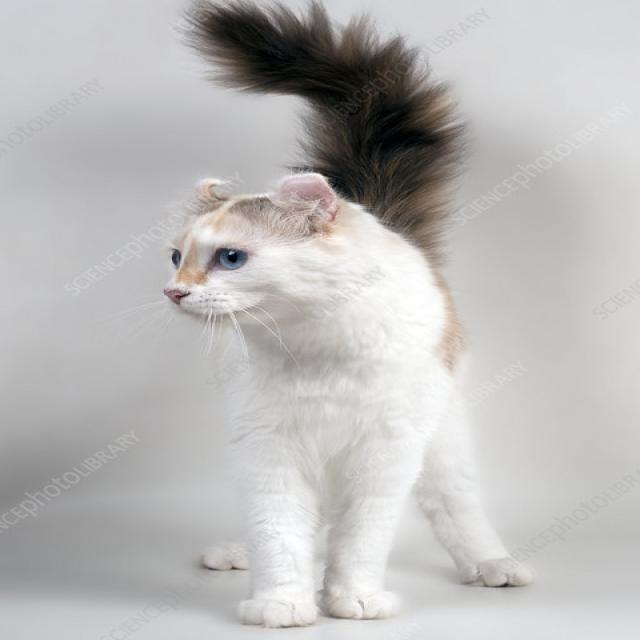American Curl: (156, 0, 537, 632)
